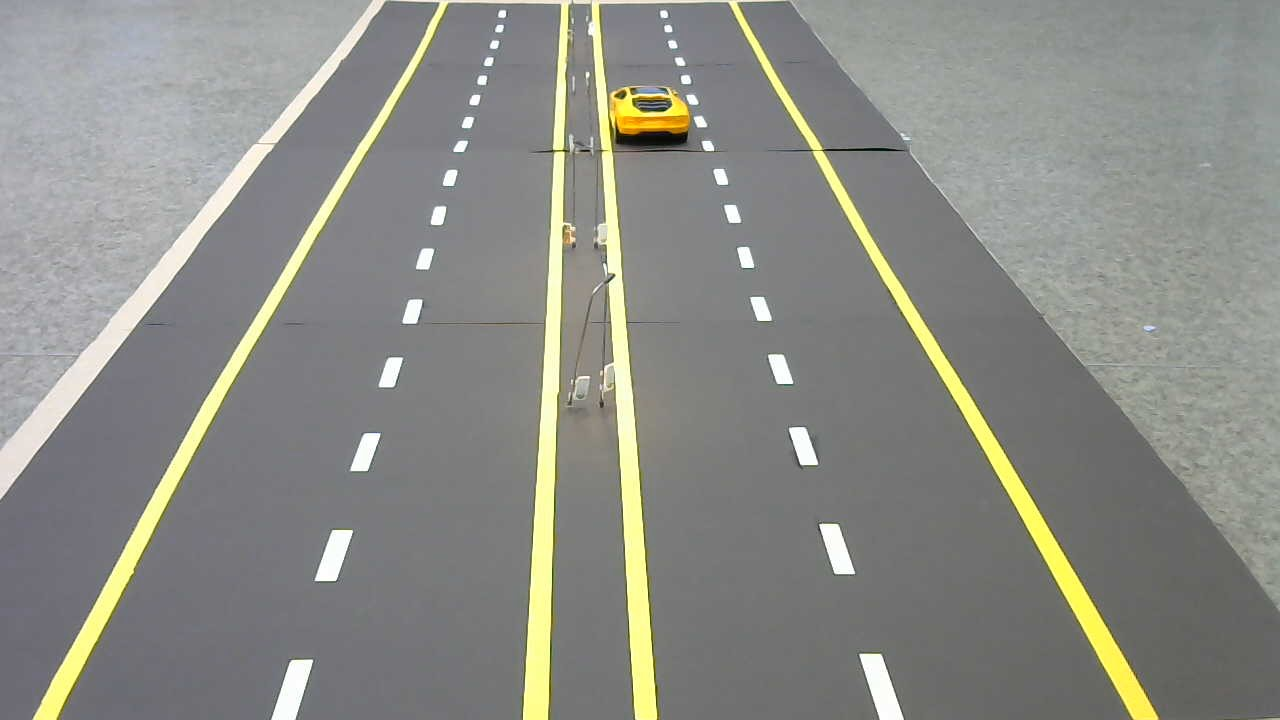back_car: (606, 81, 693, 145)
